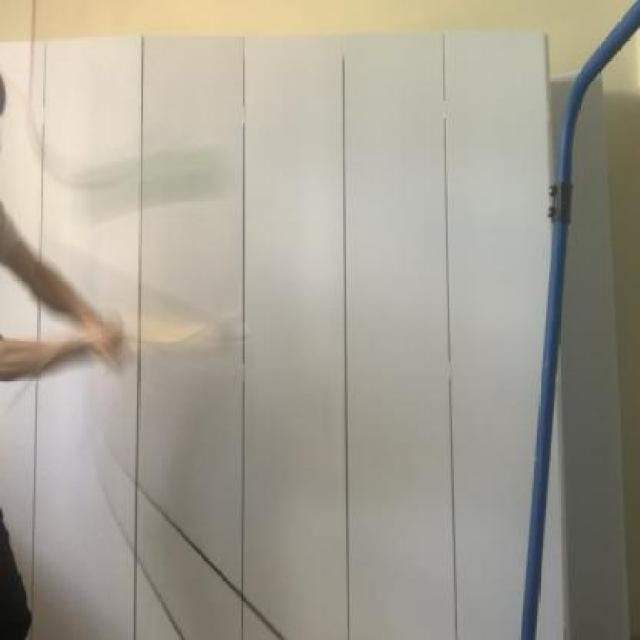baseball: (60, 148, 231, 222)
